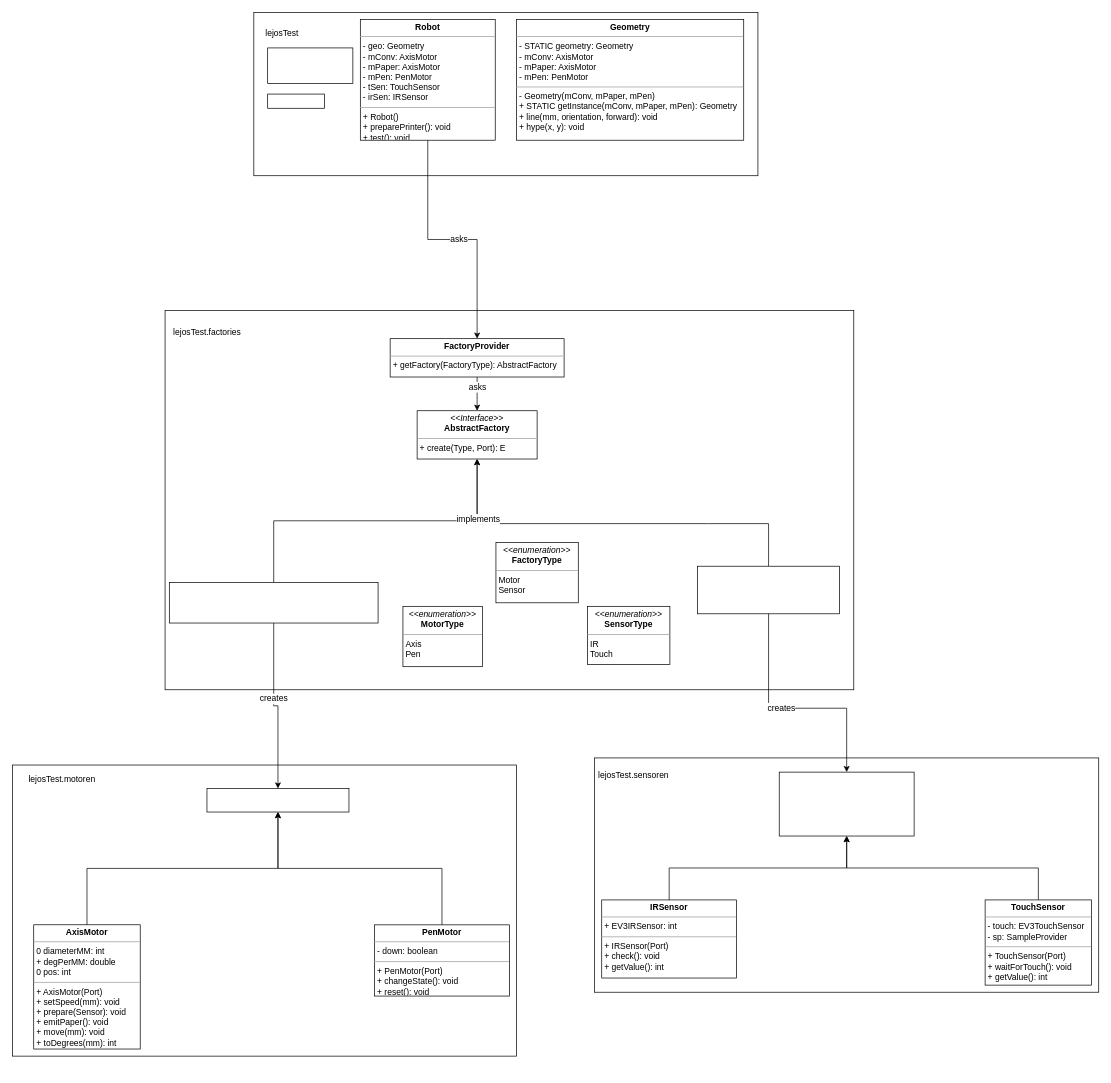
This 1111x1083 diagram has some shape labels left out. The centre of each missing label's shape, as x and y in pixels:
EV3LargeRegulatedMotor: the point at 277,800
Functions: the point at 295,100
Main + main(args[]): void: the point at 310,65
MotorFactory + create(MotorType, Port): EV3LargeRegulatedMotor: the point at 273,602
Sensor - port: Port - value: int + Sensor(Port port): the point at 846,803
SensorFactory + create(SensorType, Port): Sensor + method2(Type, Type): Type: the point at 768,590
